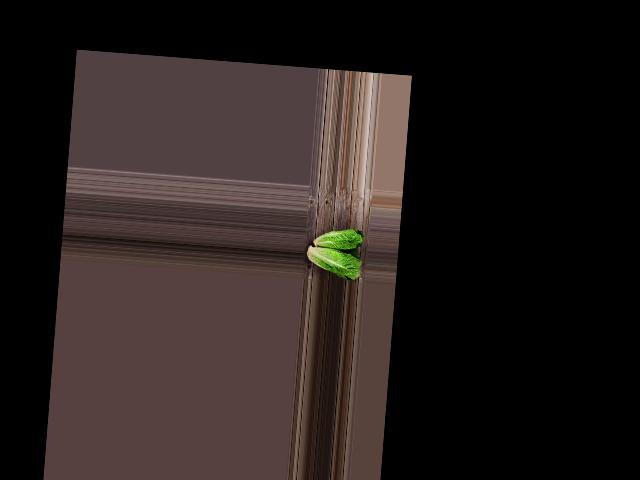lettuce: (302, 245, 364, 282)
